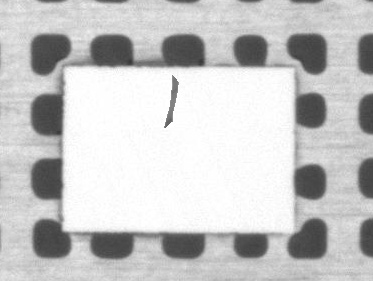DIE_INK: (211, 50, 242, 100)
